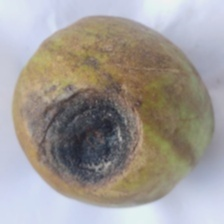guava: (28, 38, 202, 224)
